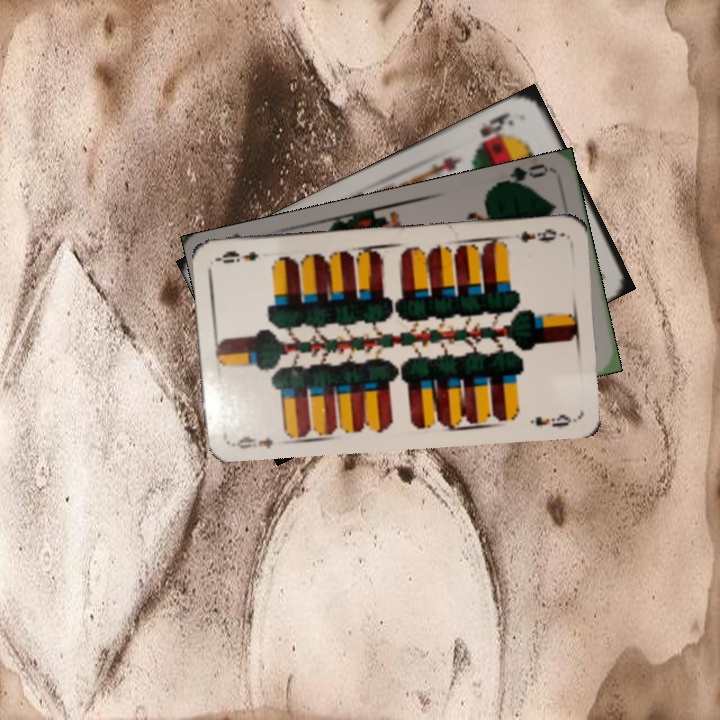E9: (511, 224, 563, 245), (227, 432, 276, 452)
GO: (492, 161, 550, 192)
SK: (471, 108, 517, 150)
